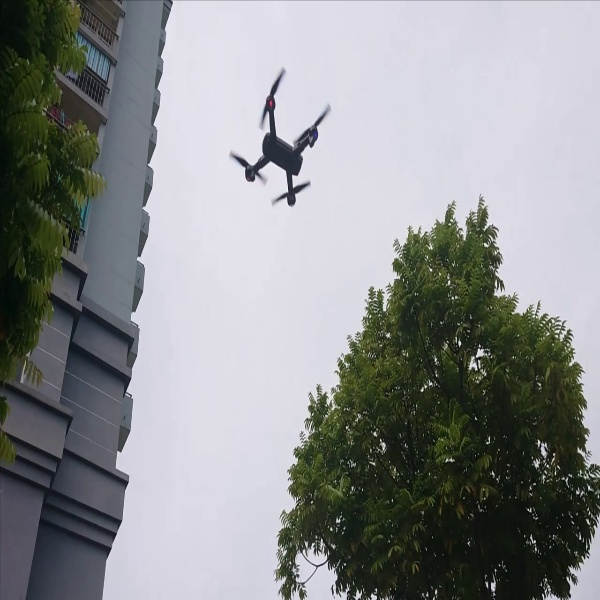drone: (226, 72, 339, 220)
